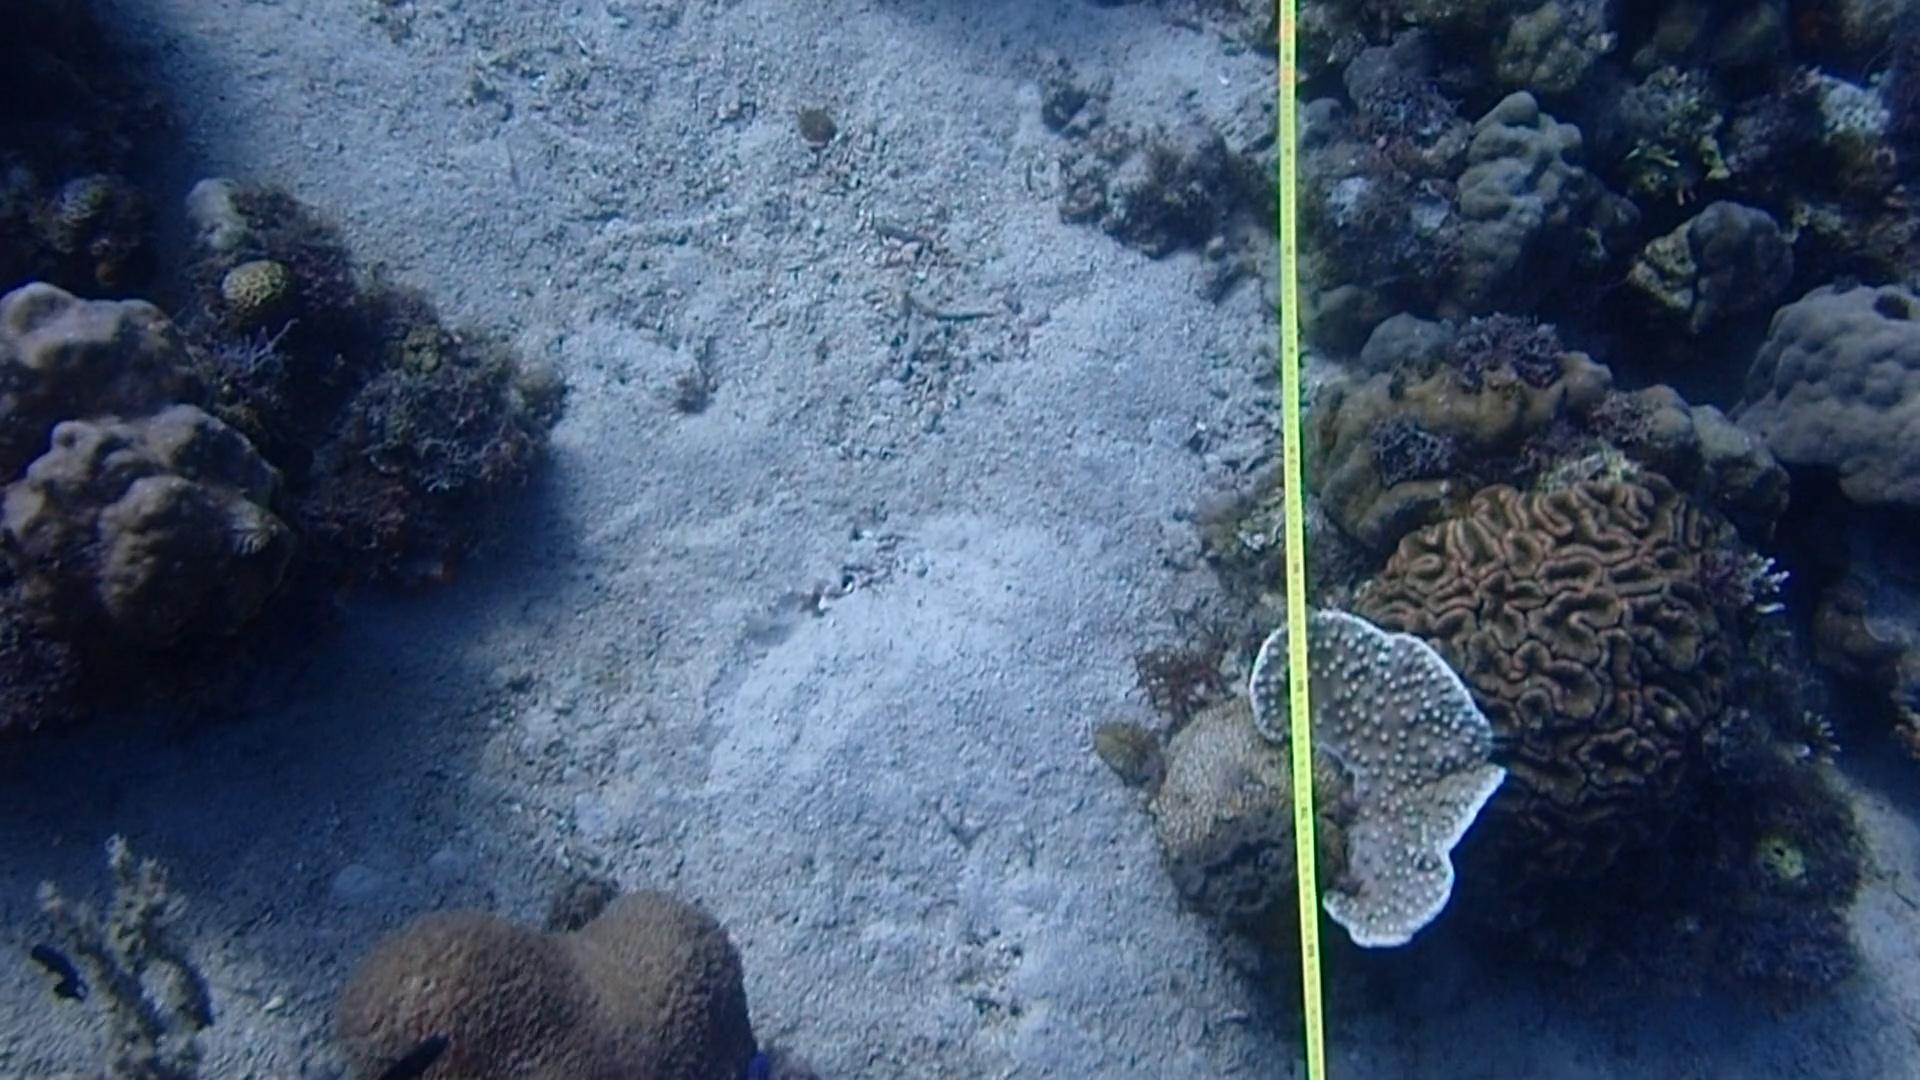Dark Fish: (24, 935, 95, 1015)
